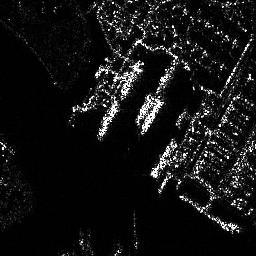ship: (149, 137, 176, 177), (121, 62, 144, 99), (140, 98, 164, 133), (98, 100, 120, 138), (136, 89, 155, 125)
